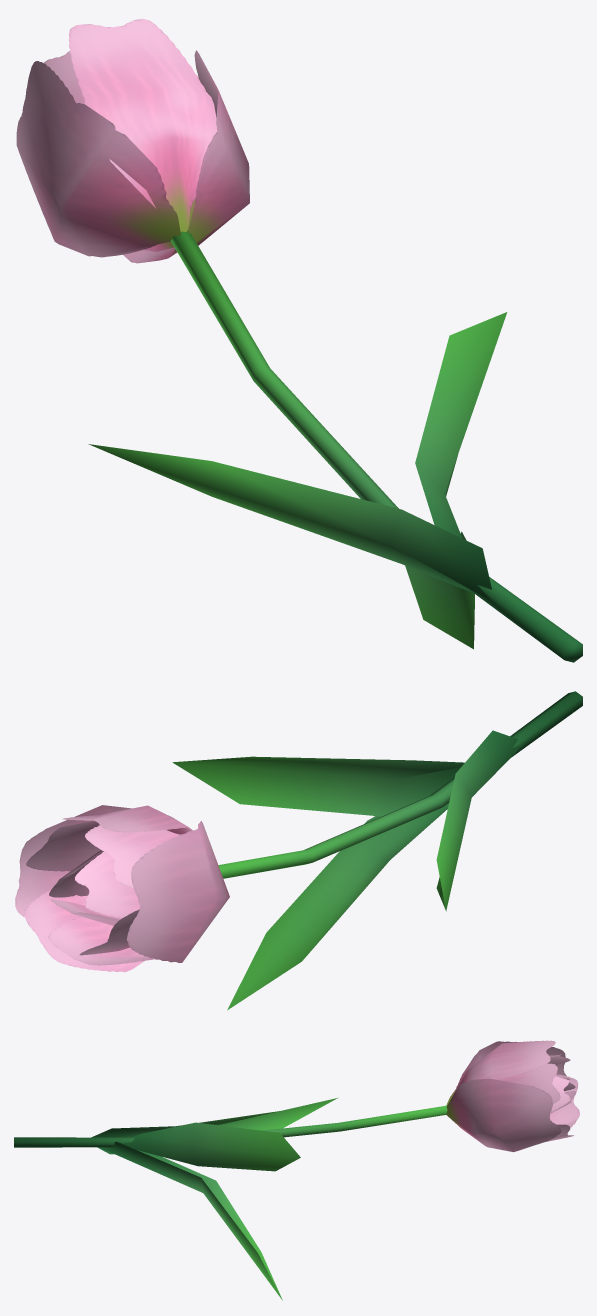
The model's file is SM_Tulip_PastellPink_Open.fbx.
3 renders of one model, top to bottom at view 1: azimuth 30°, elevation 25°; view 2: azimuth 150°, elevation 25°; view 3: azimuth 270°, elevation 25°, orthographic. The views are drawn at different scales.
Parts seen in each view (by area): view 1: Tulip_PastellPink_Open; view 2: Tulip_PastellPink_Open; view 3: Tulip_PastellPink_Open.
Part boxes in pixels (x1,y1,x2,y2): Tulip_PastellPink_Open: (16,18,582,662); Tulip_PastellPink_Open: (15,691,582,1010); Tulip_PastellPink_Open: (14,1040,579,1300).
Size of the model in its own units: 79.43 by 90.75 by 205.
